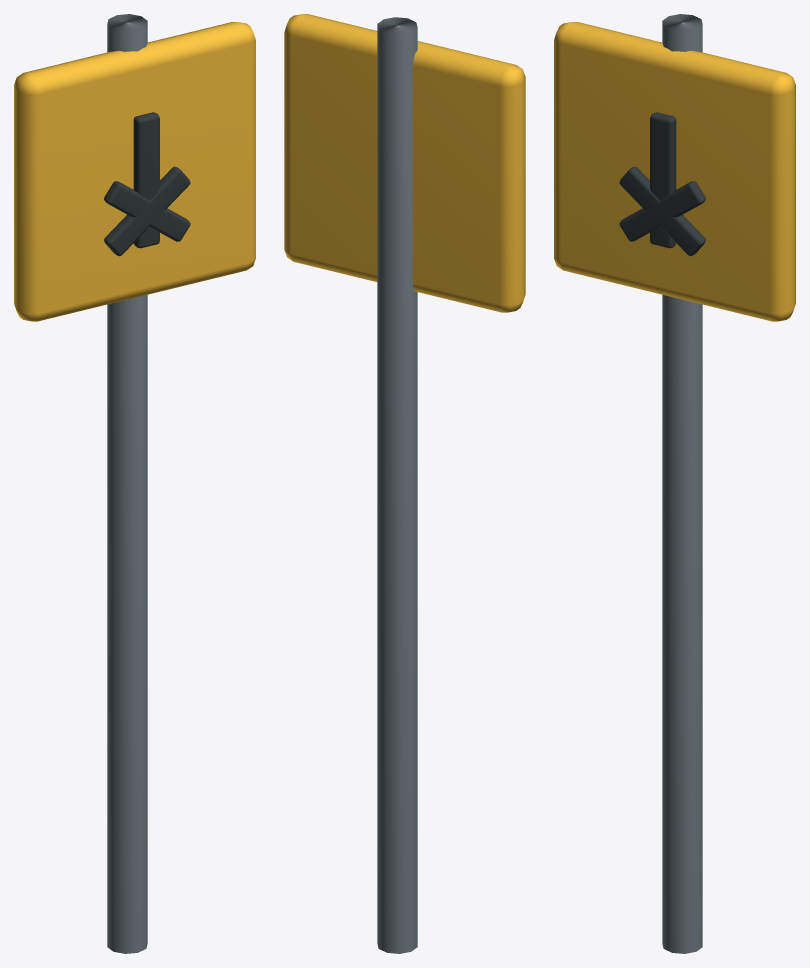
File: Environment_Traffic_Sign_Curve_Warning.fbx
3 renders of one model, left to right at view 1: azimuth 30°, elevation 25°; view 2: azimuth 150°, elevation 25°; view 3: azimuth 330°, elevation 25°, orthographic.
Parts seen in each view (by area): view 1: Sign_Plate, Sign_Post, Sign_Chevron_Stem, Sign_Chevron_Arm_1, Sign_Chevron_Arm_2; view 2: Sign_Plate, Sign_Post; view 3: Sign_Plate, Sign_Post, Sign_Chevron_Stem, Sign_Chevron_Arm_2, Sign_Chevron_Arm_1.
Part boxes in pixels (x1,y1,x2,y2): Sign_Plate: (14,22,255,321); Sign_Post: (107,14,147,953); Sign_Chevron_Stem: (133,112,159,248); Sign_Chevron_Arm_1: (104,166,190,256); Sign_Chevron_Arm_2: (104,181,190,241); Sign_Plate: (284,14,525,312); Sign_Post: (377,17,417,953); Sign_Plate: (554,22,795,321); Sign_Post: (662,14,702,953); Sign_Chevron_Stem: (650,112,676,248); Sign_Chevron_Arm_2: (619,166,705,256); Sign_Chevron_Arm_1: (619,181,705,241).
Bounding box in the file's own units: 0.72 × 2.7 × 0.1775.
